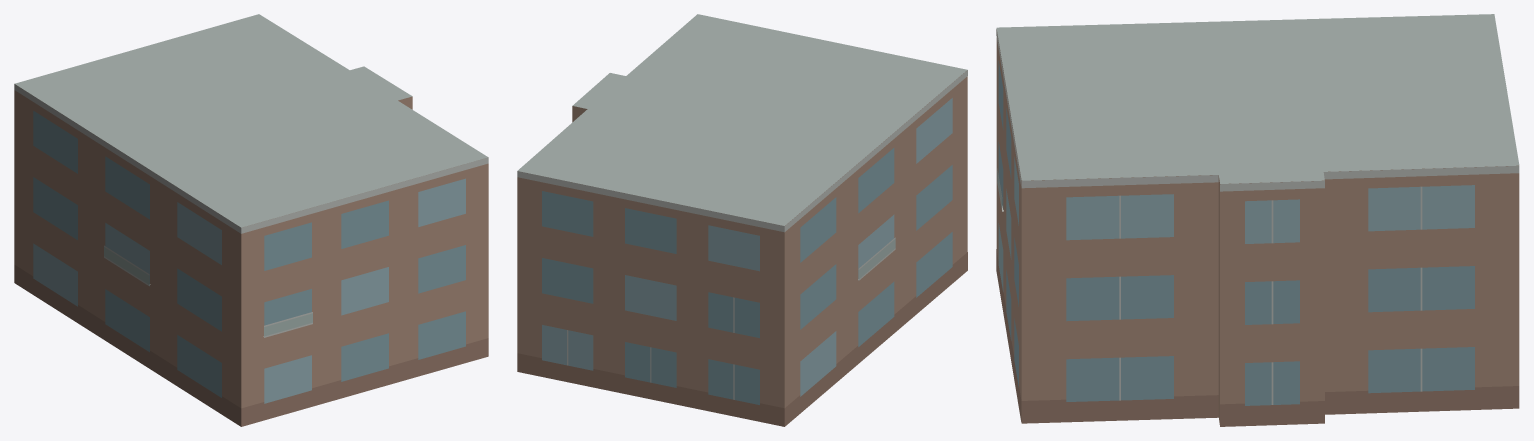
File: survey-upis-33029722.glb
The picture shows the model from 3 angles, left to right: view 1: azimuth 30°, elevation 25°; view 2: azimuth 150°, elevation 25°; view 3: azimuth 270°, elevation 25°; orthographic projection. The views are drawn at different scales.
Visible parts, largest first — view 1: survey-upis-33029722.tmp; view 2: survey-upis-33029722.tmp; view 3: survey-upis-33029722.tmp.
Part boxes in pixels (x1=…): survey-upis-33029722.tmp: x1=14, y1=14, x2=488, y2=426; survey-upis-33029722.tmp: x1=517, y1=14, x2=967, y2=426; survey-upis-33029722.tmp: x1=996, y1=14, x2=1519, y2=426.
Size of the model in its own units: 11.84 by 7.88 by 15.39.
